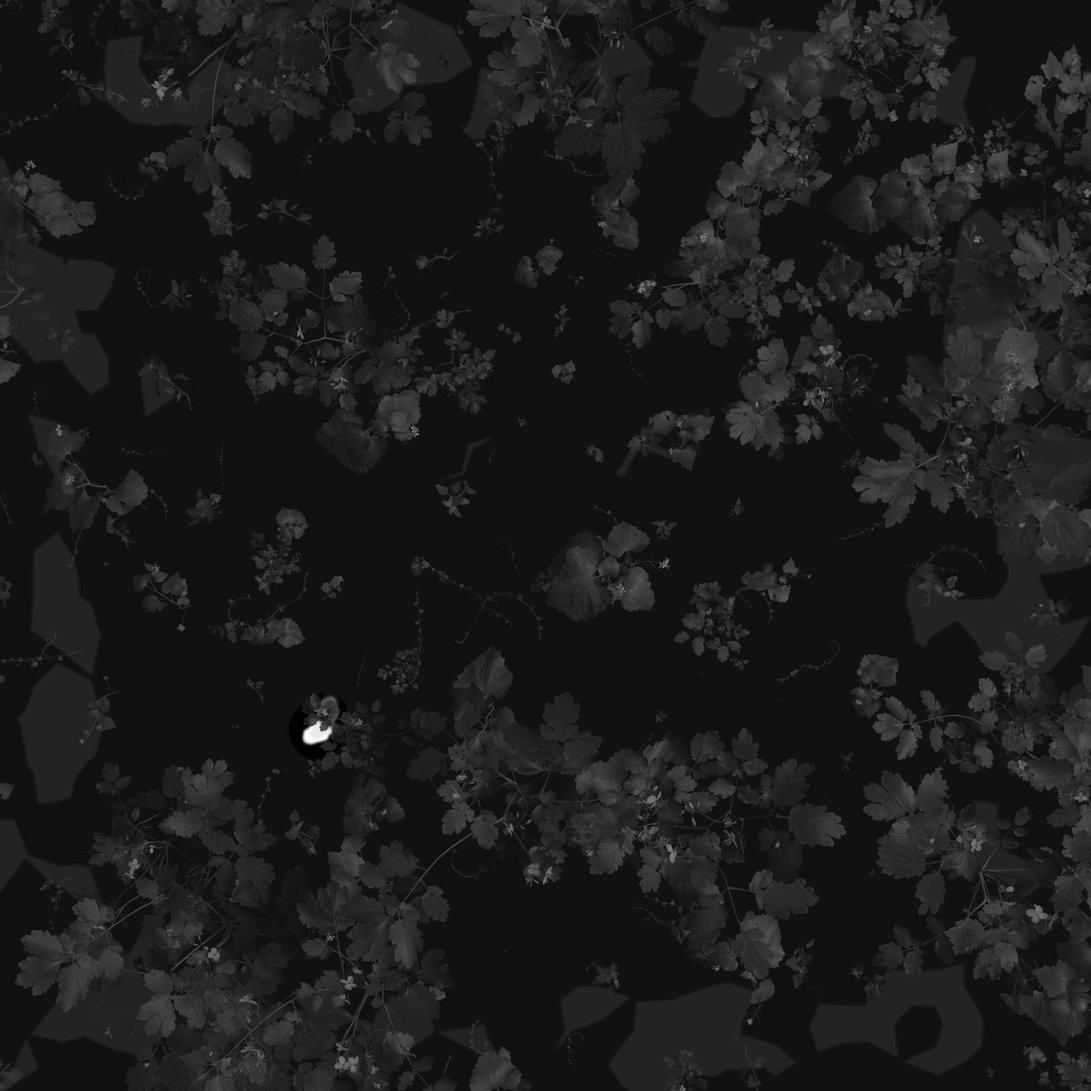landmine: (300, 696, 341, 746)
